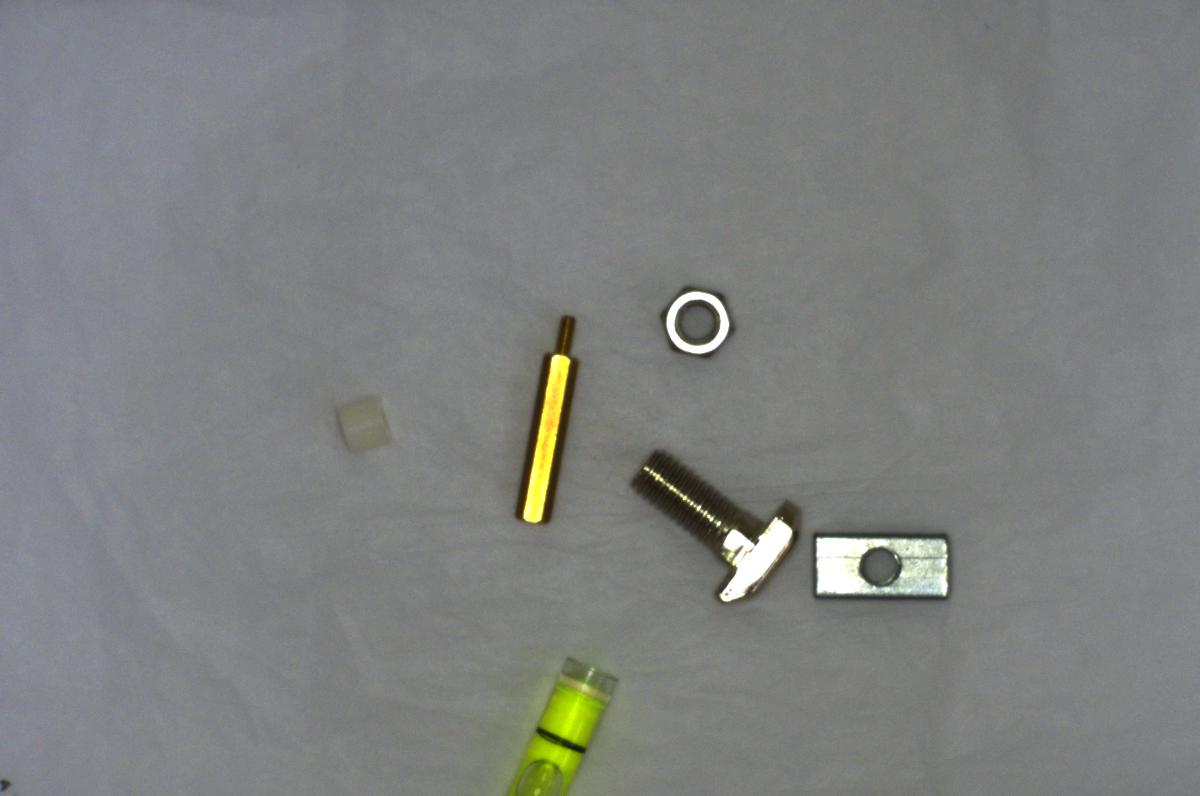Hexagon nut: (644, 282, 748, 368)
Hexagon pillar: (506, 306, 583, 530)
Horizontal bubble: (484, 651, 627, 795)
Plastic cushion pillar: (316, 382, 402, 456)
Rectangular nut: (800, 517, 962, 609)
T-shaped screw: (621, 445, 803, 603)
